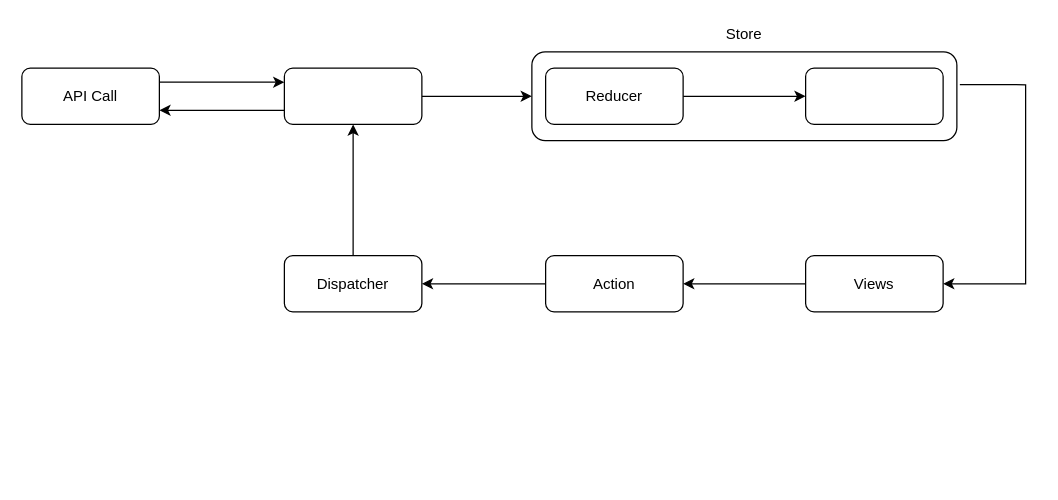
This 1058x500 diagram has some shape labels left out. Here are the shapes that lost their labels. From the top down, the box of each, then its label:
(283, 67, 422, 124): Execute action
(804, 67, 943, 124): State
